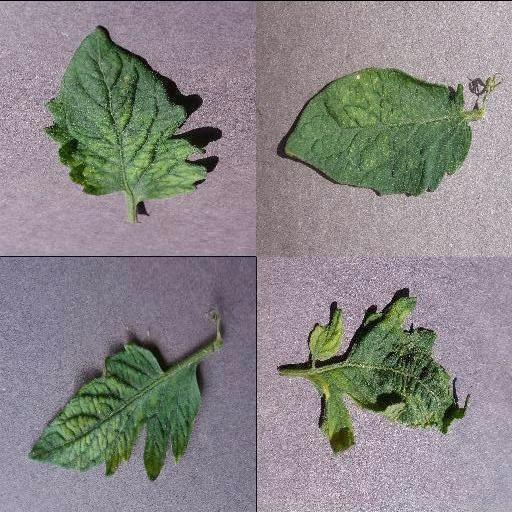Mosaic Virus: (42, 24, 210, 202), (306, 294, 472, 453), (27, 342, 203, 482)
Spider Mites: (283, 67, 471, 195)
